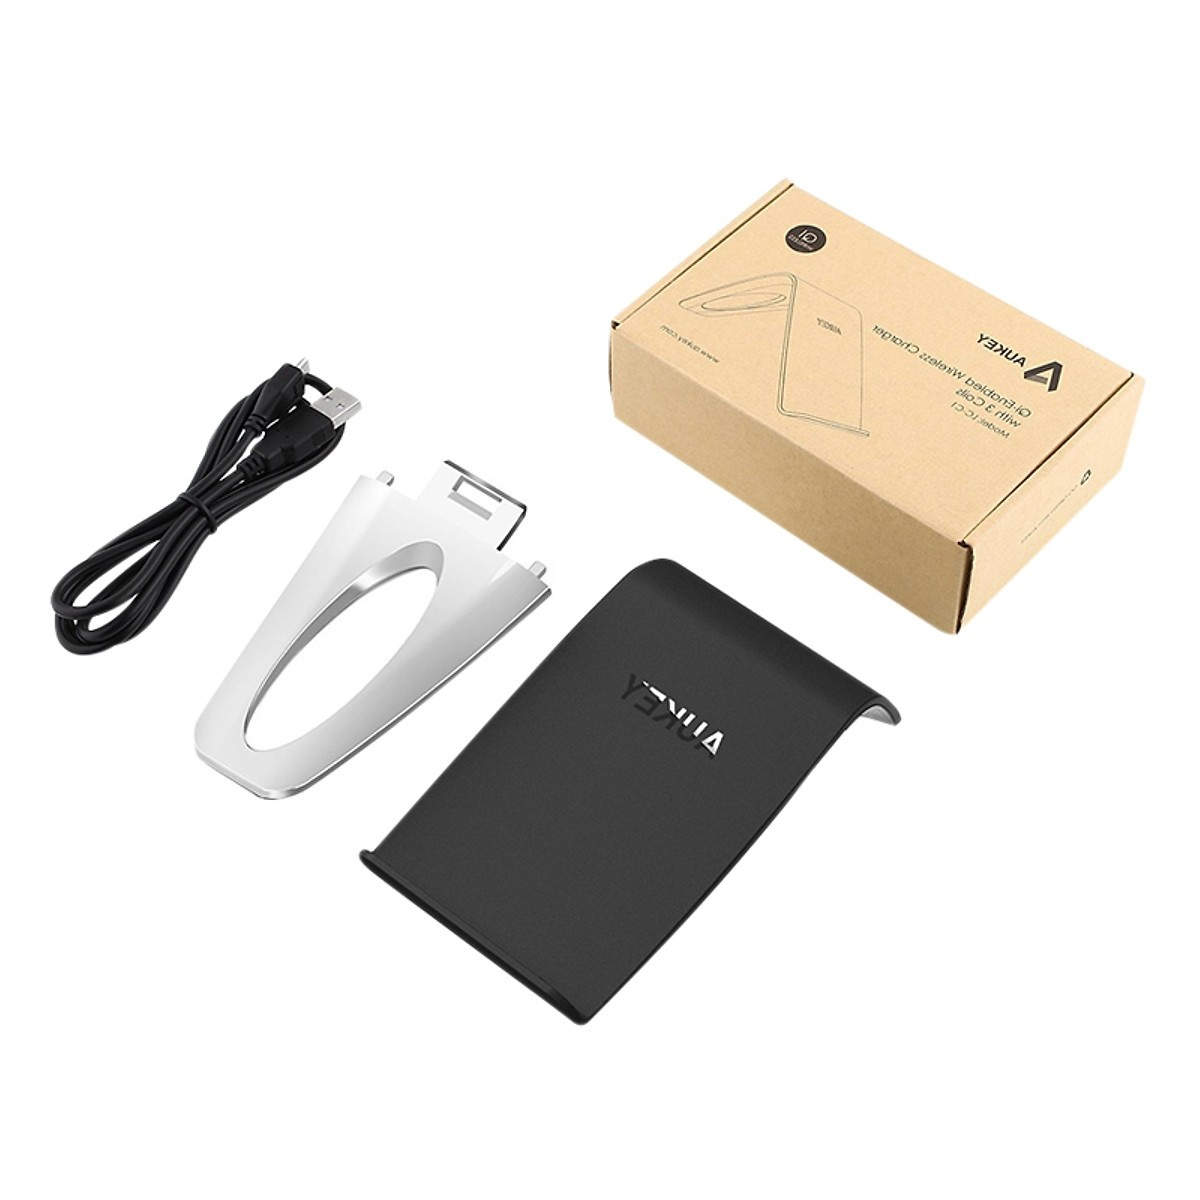Aukey: (554, 664, 768, 841), (935, 291, 1080, 437)
